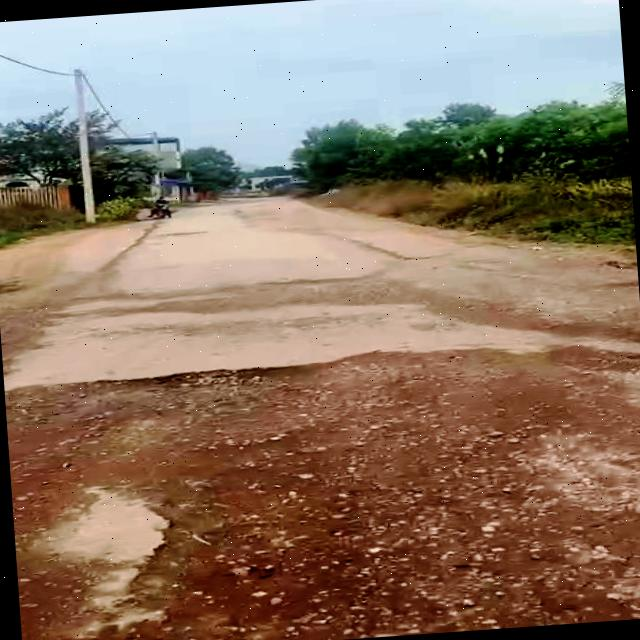pothole: (119, 454, 365, 637), (99, 357, 338, 422), (537, 337, 640, 386)
